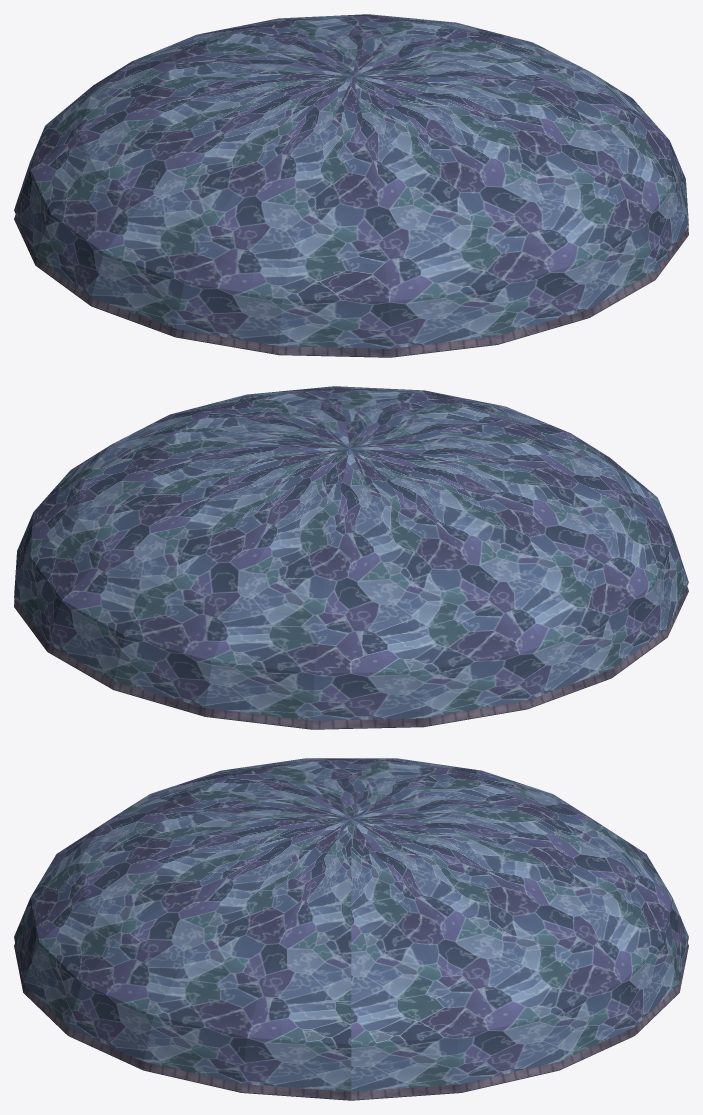
File: Oracle_Vault_LOD1.gltf
3 renders of one model, top to bottom at view 1: azimuth 30°, elevation 25°; view 2: azimuth 150°, elevation 25°; view 3: azimuth 270°, elevation 25°, orthographic.
Parts seen in each view (by area): view 1: Oracle_Vault_LOD1; view 2: Oracle_Vault_LOD1; view 3: Oracle_Vault_LOD1.
Part boxes in pixels (bbox=[...]): Oracle_Vault_LOD1: bbox=[14, 14, 688, 357]; Oracle_Vault_LOD1: bbox=[14, 386, 688, 729]; Oracle_Vault_LOD1: bbox=[14, 758, 688, 1100].
Bounding box in the file's own units: 103 × 23.5 × 104.
2 materials, 2 textured.
